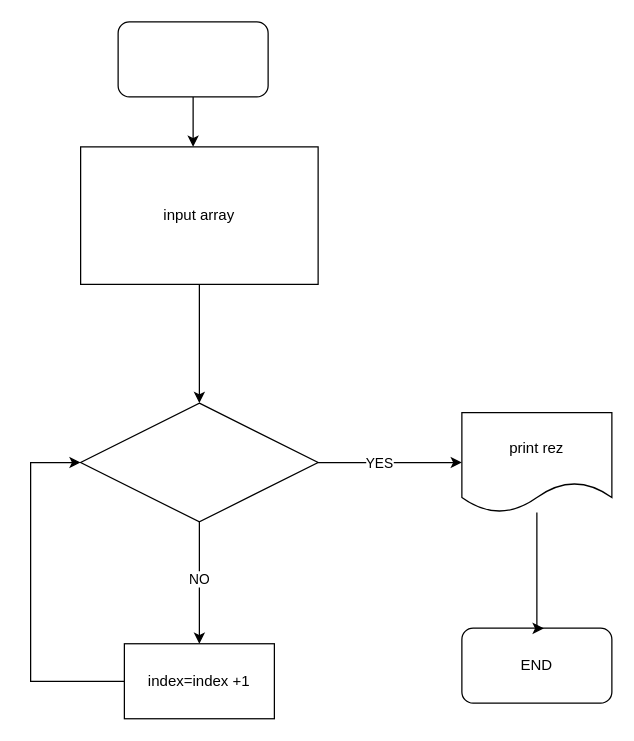
This 634x741 diagram has some shape labels left out. The centre of each missing label's shape, as x and y in pixels:
inputsize<=3: the point at 198,462
START: the point at 192,59
